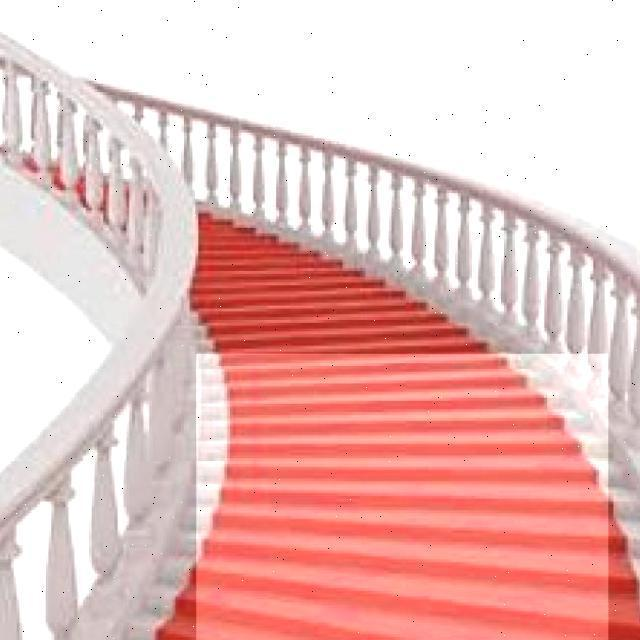stair: (196, 354, 608, 640)
